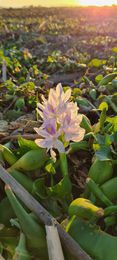water_hyacinth: (2, 86, 116, 259)
